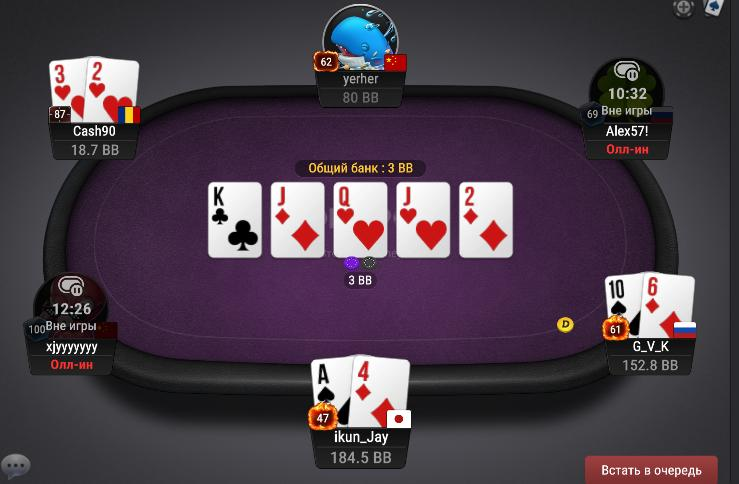10s: (643, 271, 693, 337), (603, 274, 641, 337)
2d: (461, 183, 513, 256)
2h: (86, 54, 137, 121)
3h: (49, 58, 87, 122)
4d: (352, 355, 410, 428)
6d: (697, 269, 698, 273)
As: (310, 356, 353, 430)
Jd: (271, 182, 323, 258)
Jh: (398, 181, 448, 256)
Kc: (207, 182, 261, 257)
Qh: (335, 184, 387, 257)
